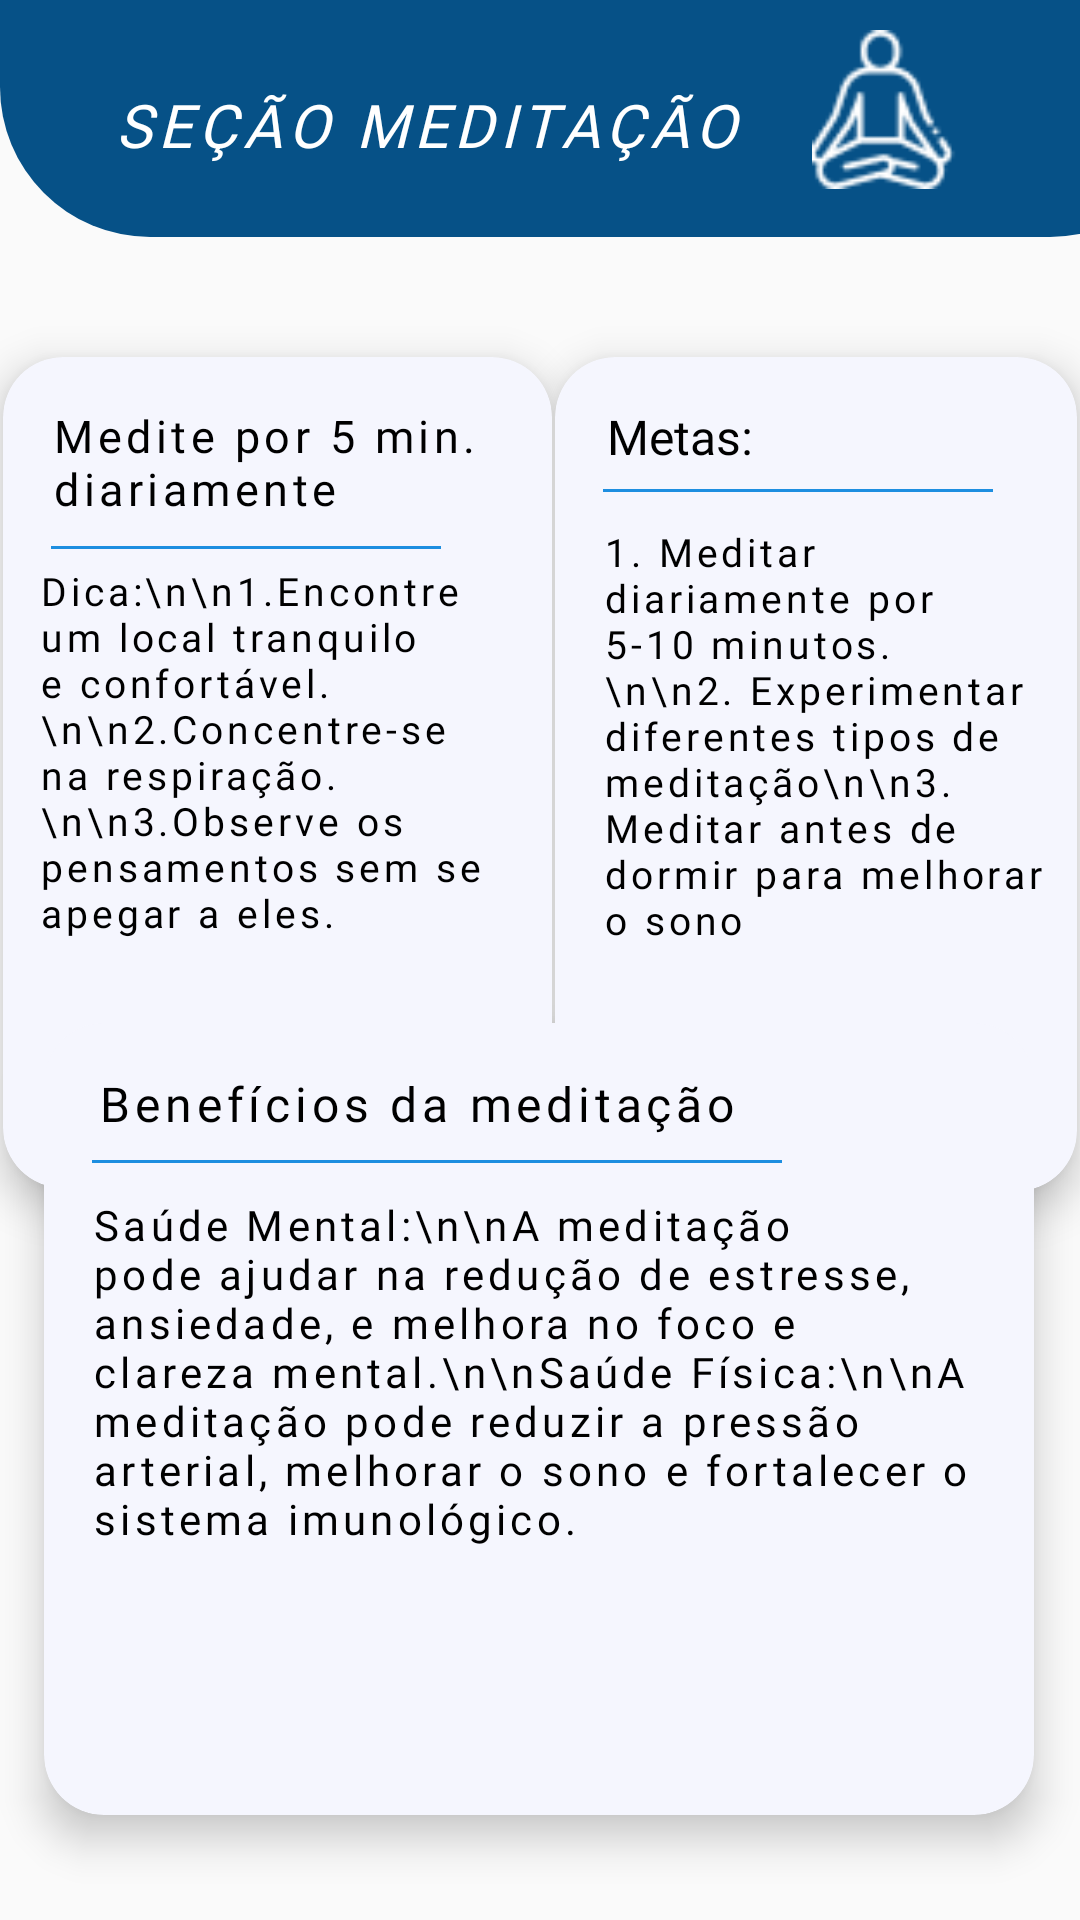

Where icons sit on this 1080w x 1920h app screen, as {"left": x1, "top": y1, "right": x2, "bottom": y2}:
meditacao: {"left": 812, "top": 30, "right": 954, "bottom": 189}
